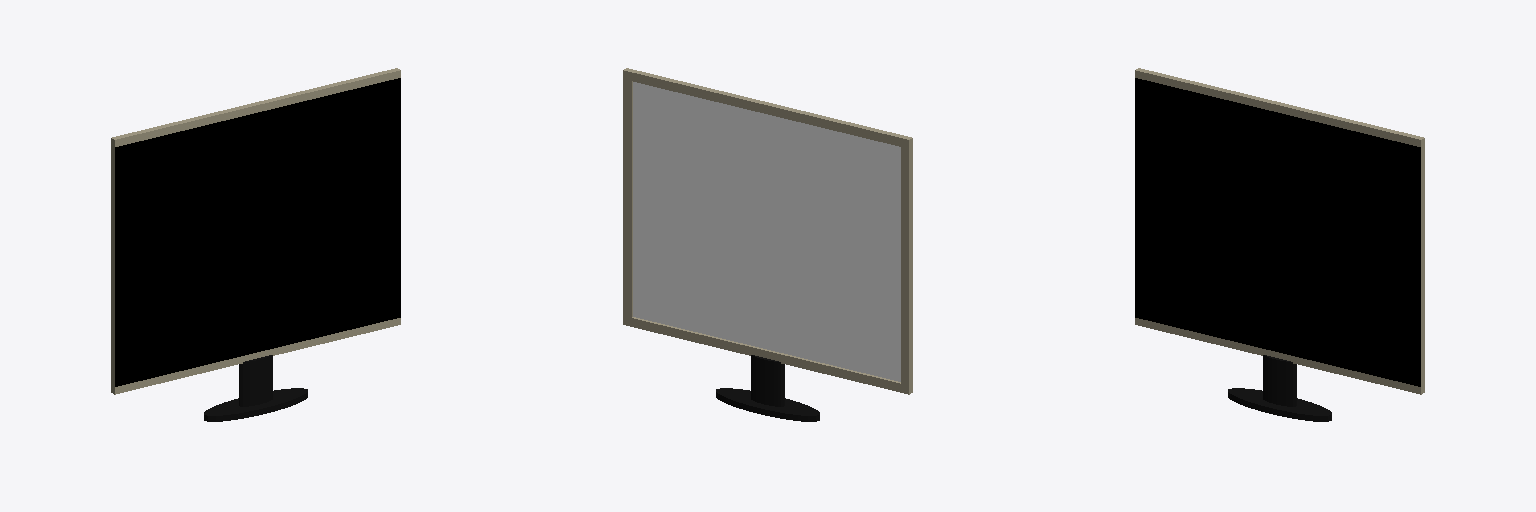
Rendered from maytinh.obj.
3 views of the same model, side by side, from view 1: azimuth 30°, elevation 25°; view 2: azimuth 150°, elevation 25°; view 3: azimuth 330°, elevation 25° (orthographic).
Visible parts, largest first — view 1: obj6, obj1, obj2, obj8, obj7, obj4; view 2: obj5, obj1, obj2, obj4, obj3, obj8, obj7; view 3: obj6, obj1, obj2, obj8, obj7, obj3.
Boxes of the visible parts, <box> form: obj6: <box>115,78,400,386</box>; obj1: <box>111,68,400,147</box>; obj2: <box>111,318,400,394</box>; obj8: <box>204,388,307,421</box>; obj7: <box>239,355,272,406</box>; obj4: <box>111,146,114,386</box>; obj5: <box>633,82,900,381</box>; obj1: <box>623,68,912,148</box>; obj2: <box>623,316,912,394</box>; obj4: <box>901,145,912,386</box>; obj3: <box>623,78,632,317</box>; obj8: <box>716,388,819,421</box>; obj7: <box>751,355,784,406</box>; obj6: <box>1135,78,1420,386</box>; obj1: <box>1135,68,1424,148</box>; obj2: <box>1135,318,1424,394</box>; obj8: <box>1228,388,1331,421</box>; obj7: <box>1263,355,1296,406</box>; obj3: <box>1421,145,1424,386</box>.
Size of the model in its own units: 1 by 1.01 by 0.102.